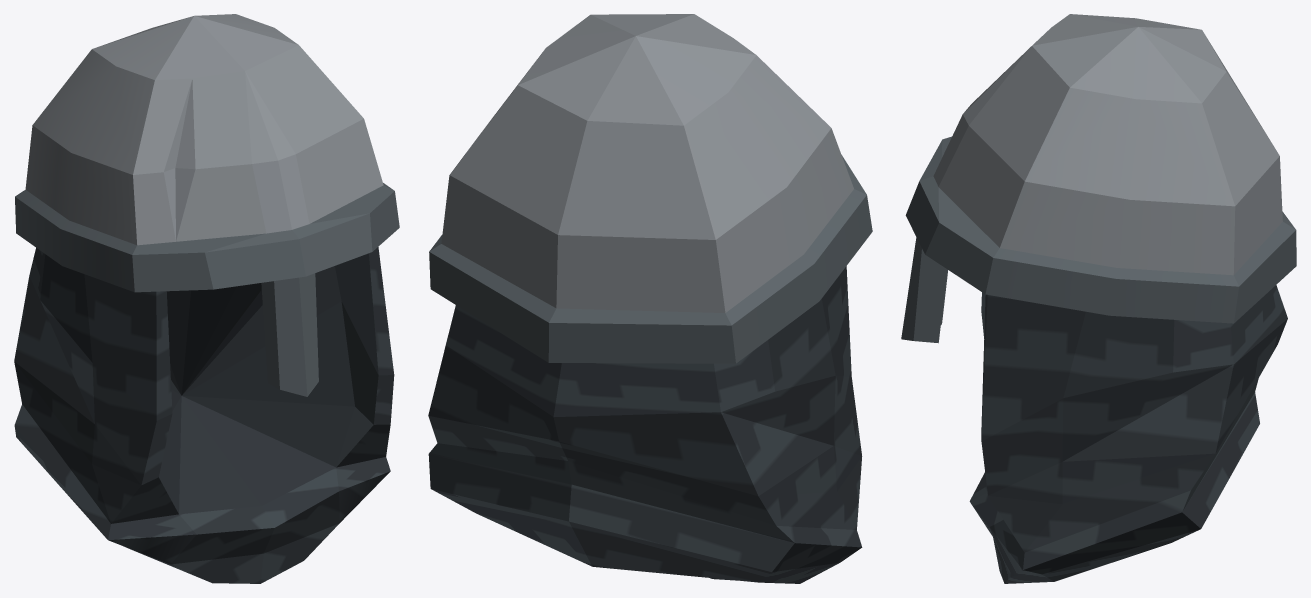
The model's file is Chr_HeadCoverings_No_Hair_02_Static.fbx.
The picture shows the model from 3 angles, left to right: view 1: azimuth 30°, elevation 25°; view 2: azimuth 150°, elevation 25°; view 3: azimuth 270°, elevation 25°; orthographic projection. The views are drawn at different scales.
Visible parts, largest first — view 1: Chr_HeadCoverings_No_Hair_02_Static; view 2: Chr_HeadCoverings_No_Hair_02_Static; view 3: Chr_HeadCoverings_No_Hair_02_Static.
Part boxes in pixels (bbox=[...]): Chr_HeadCoverings_No_Hair_02_Static: bbox=[14, 14, 399, 583]; Chr_HeadCoverings_No_Hair_02_Static: bbox=[428, 14, 872, 583]; Chr_HeadCoverings_No_Hair_02_Static: bbox=[901, 14, 1296, 583].
Size of the model in its own units: 0.3193 by 0.4991 by 0.3287.
